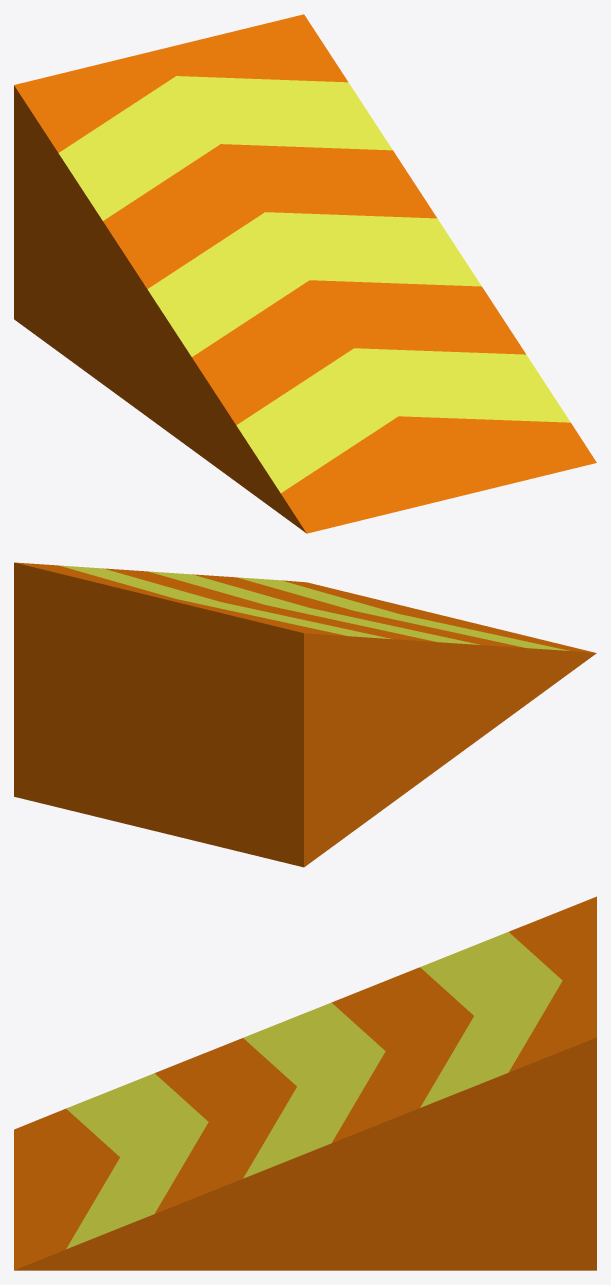
Rendered from ramp.fbx.
3 views of the same model, one above another, from view 1: azimuth 30°, elevation 25°; view 2: azimuth 150°, elevation 25°; view 3: azimuth 270°, elevation 25° (orthographic).
Parts seen in each view (by area): view 1: Cube; view 2: Cube; view 3: Cube.
Part boxes in pixels (left/top/right/bottom): Cube: left=14, top=14, right=596, bottom=533; Cube: left=14, top=562, right=596, bottom=867; Cube: left=14, top=896, right=596, bottom=1270.
Size of the model in its own units: 76.1 by 58.72 by 133.
